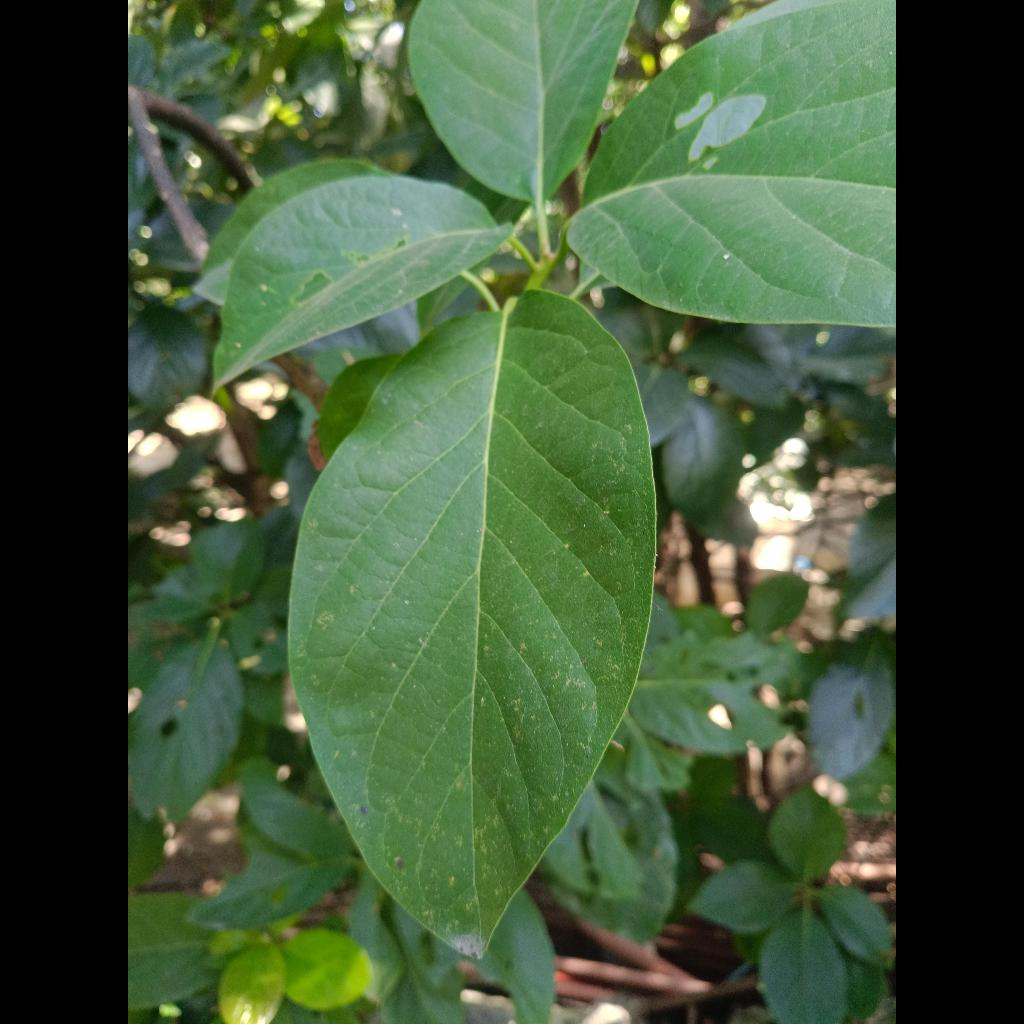Healthy: (289, 291, 655, 956)
